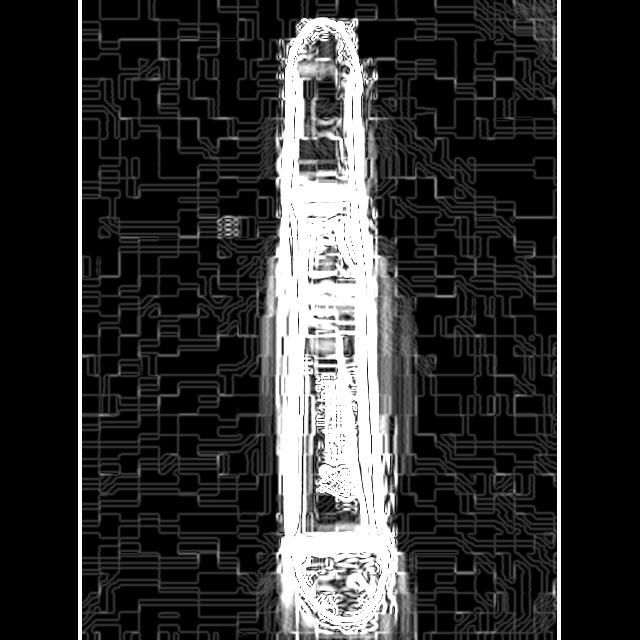separador: (274, 18, 399, 639)
